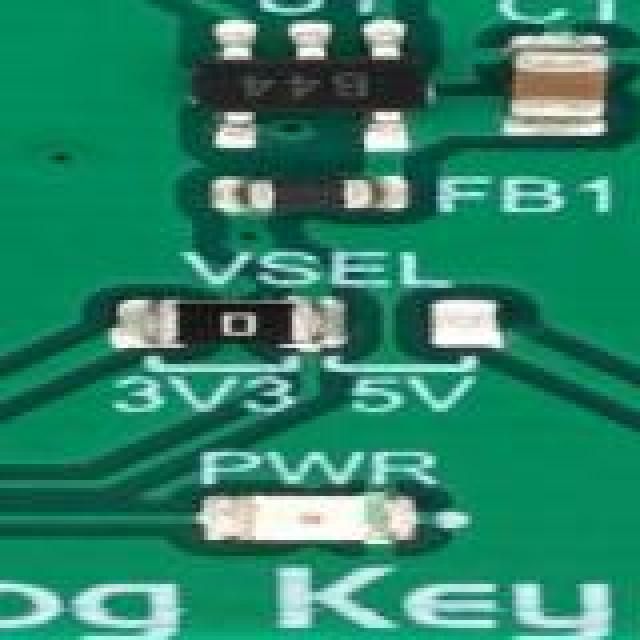IC: (212, 40, 440, 128)
LED: (220, 484, 448, 556)
capacitor: (516, 48, 614, 140)
inductor: (232, 176, 408, 222)
resistor: (160, 300, 344, 338)
